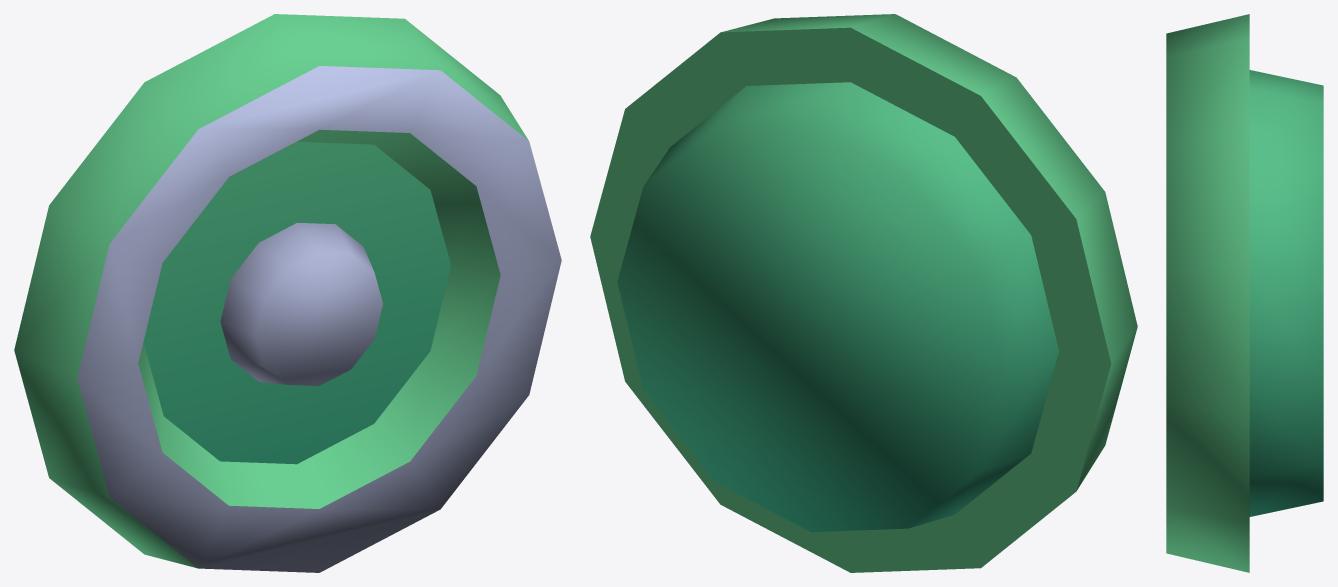
File: armor_25.glb
3 views of the same model, side by side, from view 1: azimuth 30°, elevation 25°; view 2: azimuth 150°, elevation 25°; view 3: azimuth 270°, elevation 25° (orthographic). The views are drawn at different scales.
Parts seen in each view (by area): view 1: armor_25; view 2: armor_25; view 3: armor_25.
Boxes of the visible parts, bbox=[...] form: armor_25: bbox=[14, 14, 561, 572]; armor_25: bbox=[590, 14, 1137, 572]; armor_25: bbox=[1166, 14, 1323, 572].
Size of the model in its own units: 0.3949 by 0.3949 by 0.1108.
1 material, 1 textured.
